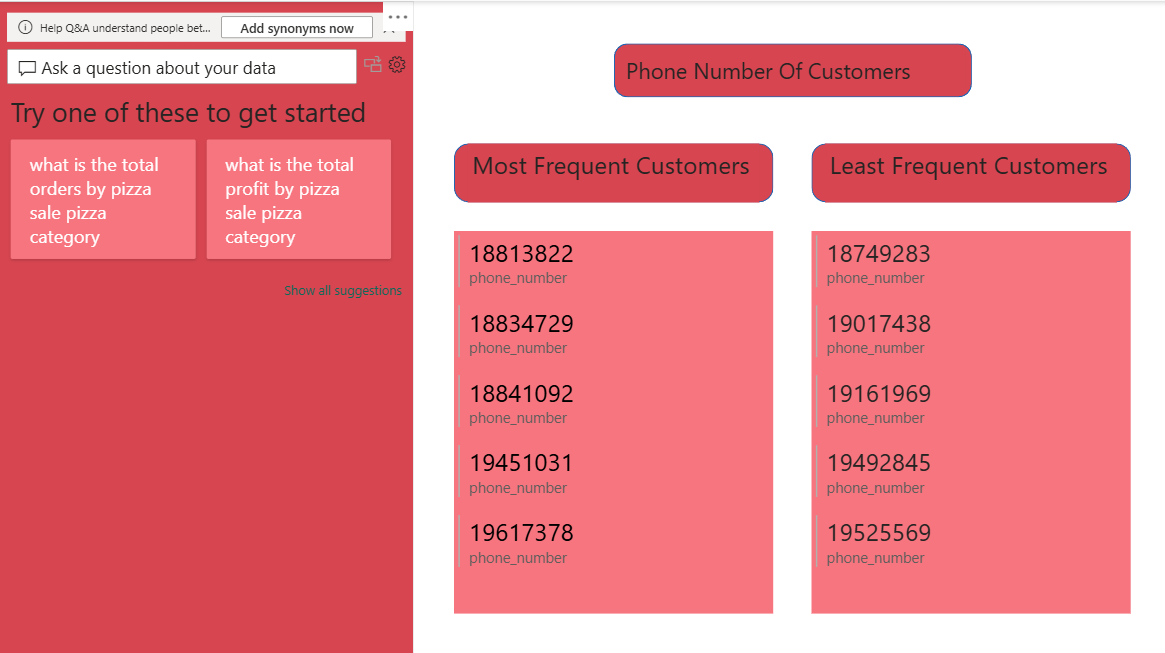

The page's visual inventory and layout, read from the dashboard file:
{"tool":"powerbi","page":{"name":"Page 3","canvas":[1280,720],"ordinal":2},"visuals":[{"type":"qnaVisual","box":[0,0,455.2,719.9],"z":0},{"type":"multiRowCard","fields":{"Values":["Query20.phone_number"]},"box":[891.9,252.6,350.7,420.1],"z":0,"group":"g1"},{"type":"group","id":"g1","title":"Group 1","box":[499.1,47.2,743.5,625.5],"z":1000},{"type":"shape","box":[674.4,47.2,392.8,59],"z":1000,"group":"g1"},{"type":"shape","box":[499.1,156.8,350.7,64.5],"z":2000,"group":"g1"},{"type":"shape","box":[891.9,156.8,350.7,64.5],"z":3000,"group":"g1"},{"type":"multiRowCard","title":"Phone numbers of most frequent customers","fields":{"Values":["Query19.phone_number"]},"box":[499.1,252.6,350.7,420.1],"z":4000,"group":"g1"},{"type":"textbox","box":[682.9,55.6,377.7,45.5],"z":5000,"group":"g1"},{"type":"textbox","box":[514.3,156.8,320.3,64.5],"z":6000,"group":"g1"},{"type":"textbox","box":[907.1,156.8,320.3,64.5],"z":7000,"group":"g1"}]}

Visuals, with their boxes in screenshot pixels (x1, y1, x2, y2):
qnaVisual: BBox(0, 0, 409, 652)
multiRowCard - Query20.phone_number: BBox(814, 228, 1139, 617)
"Group 1" group: BBox(450, 38, 1139, 617)
shape: BBox(613, 38, 976, 92)
shape: BBox(450, 139, 775, 199)
shape: BBox(814, 139, 1139, 199)
"Phone numbers of most frequent customers" multiRowCard: BBox(450, 228, 775, 617)
textbox: BBox(620, 45, 970, 88)
textbox: BBox(464, 139, 761, 199)
textbox: BBox(828, 139, 1125, 199)
